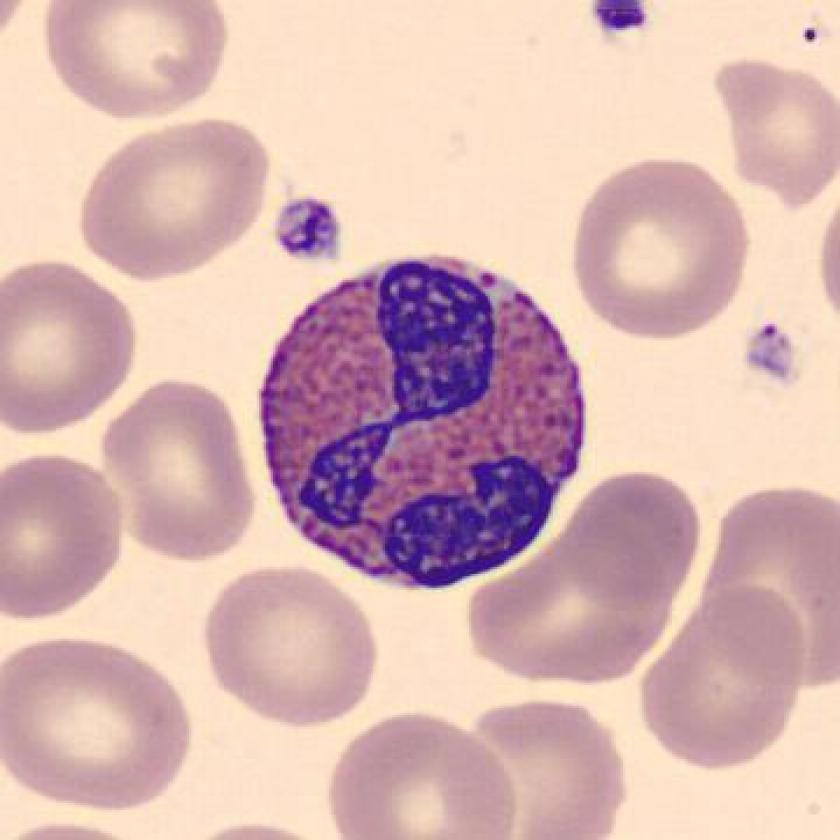eosinophil: (244, 246, 598, 598)
